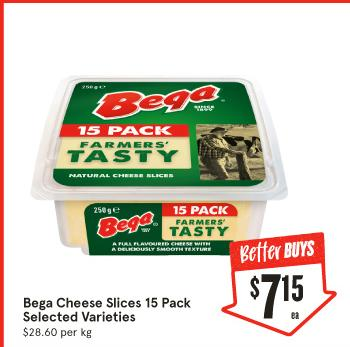description_block: (13, 288, 199, 324)
price_main: (240, 270, 321, 323)
product_image_block: (27, 53, 268, 258)
promo_text_block: (227, 235, 333, 266)
unit_price_block: (12, 323, 97, 341)
